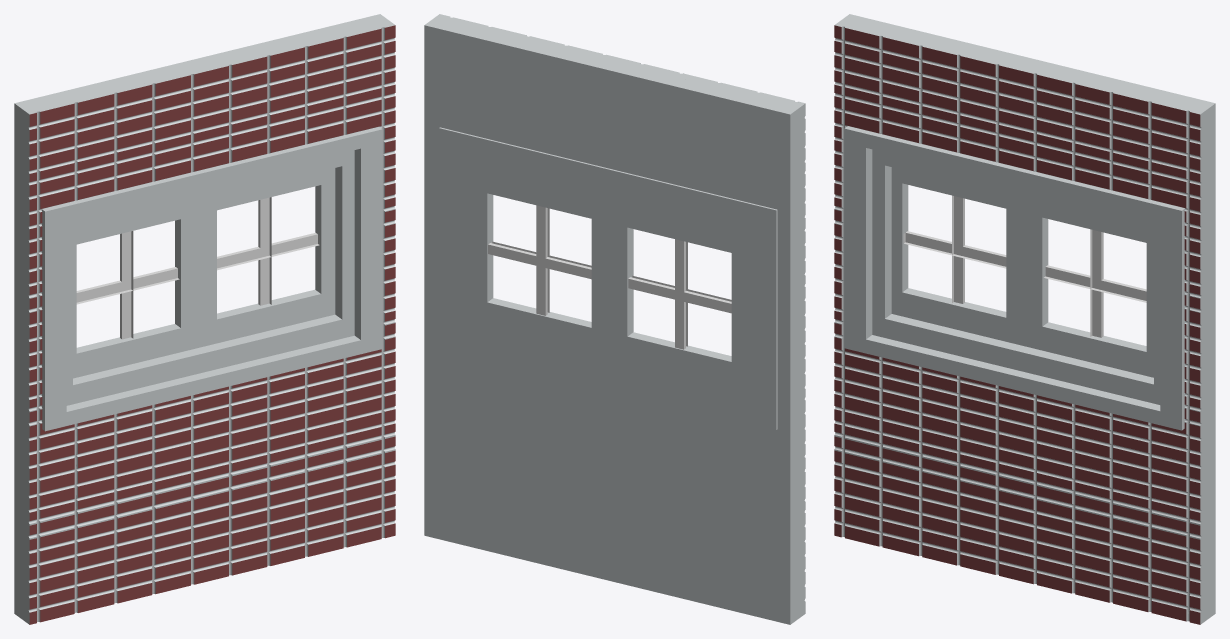
The model's file is windowWall.glb.
3 views of the same model, side by side, from view 1: azimuth 30°, elevation 25°; view 2: azimuth 150°, elevation 25°; view 3: azimuth 330°, elevation 25° (orthographic).
Visible parts, largest first — view 1: Cube.010, Cube.004; view 2: Cube.010, Cube.004; view 3: Cube.010, Cube.004.
Part boxes in pixels (<box>): Cube.010: <box>14,14,395,624</box>; Cube.004: <box>41,127,382,431</box>; Cube.010: <box>424,14,805,624</box>; Cube.004: <box>439,127,777,429</box>; Cube.010: <box>834,14,1215,624</box>; Cube.004: <box>844,126,1185,430</box>.
Size of the model in its own units: 6.92 by 9.23 by 0.6263.
